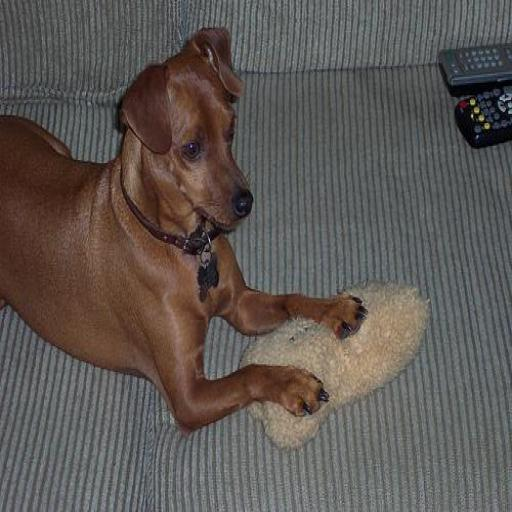dog_face: (114, 24, 248, 230)
